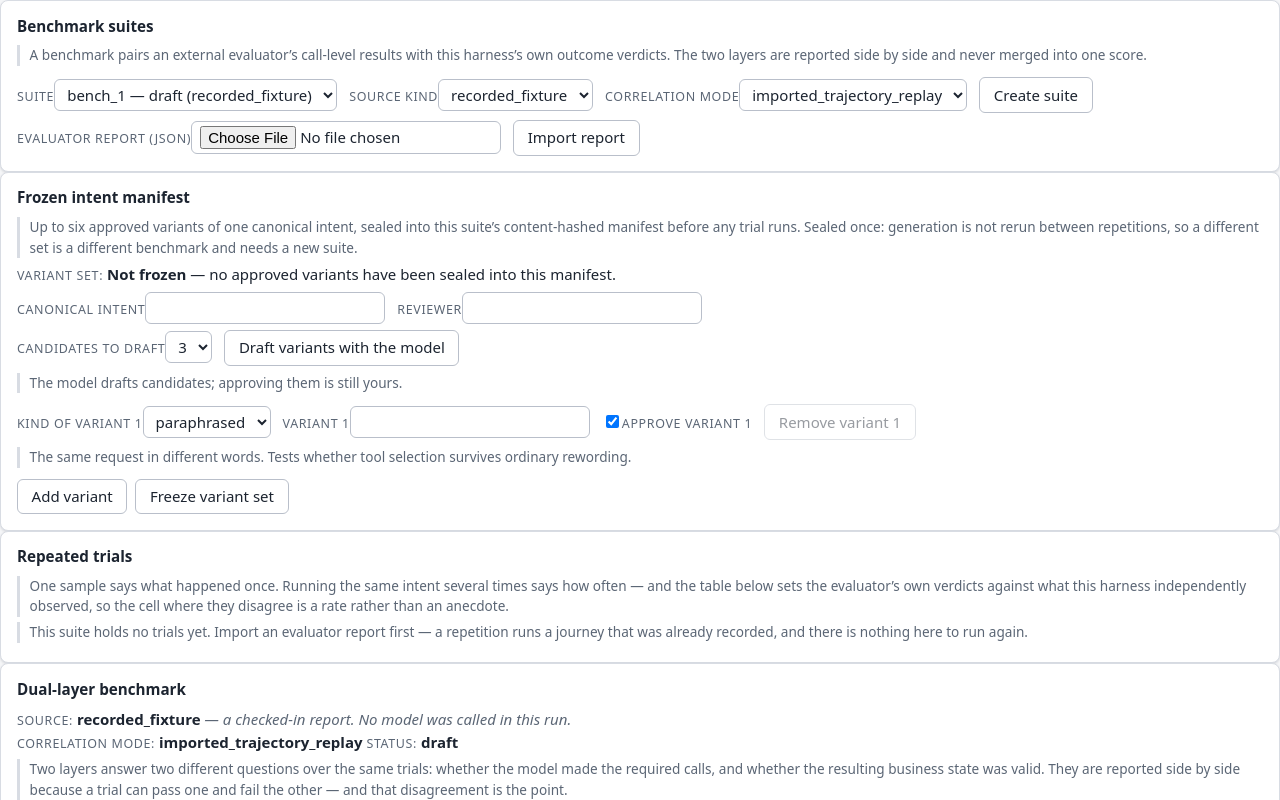
Scenario: BenchmarkSection — the frozen intent manifest › stops offering rows at FR-100's ceiling of six
Click the button "Add variant": (72,497) [17, 479, 127, 514]
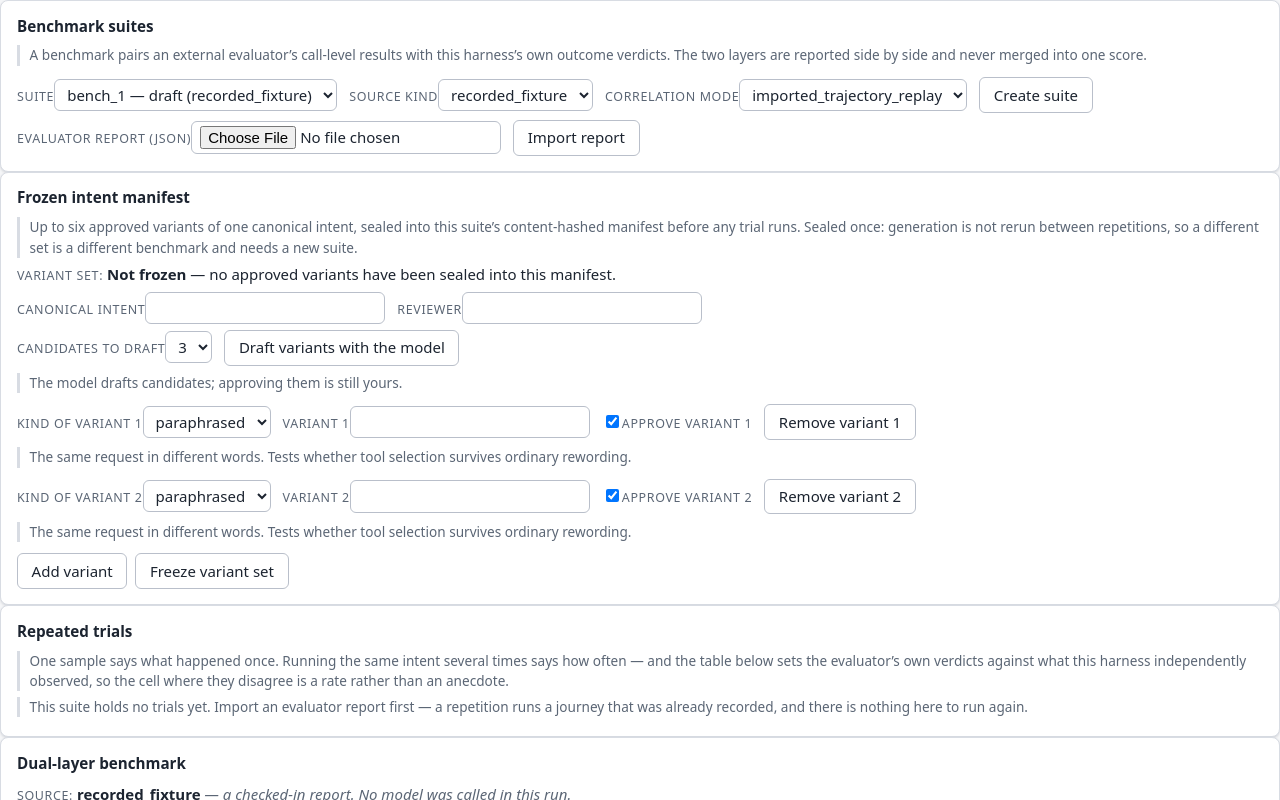
Click the button "Add variant": (72,571) [17, 553, 127, 589]
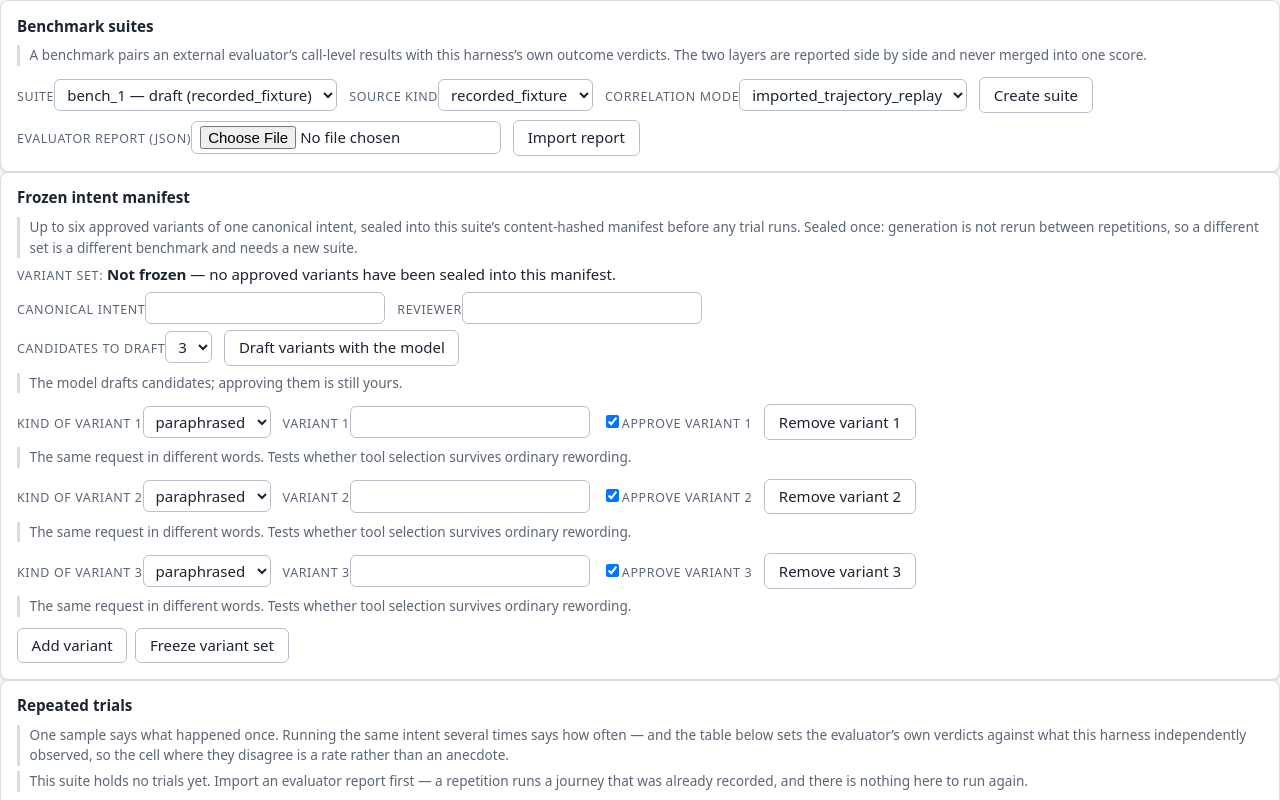
Click the button "Add variant": (72,646) [17, 628, 127, 663]
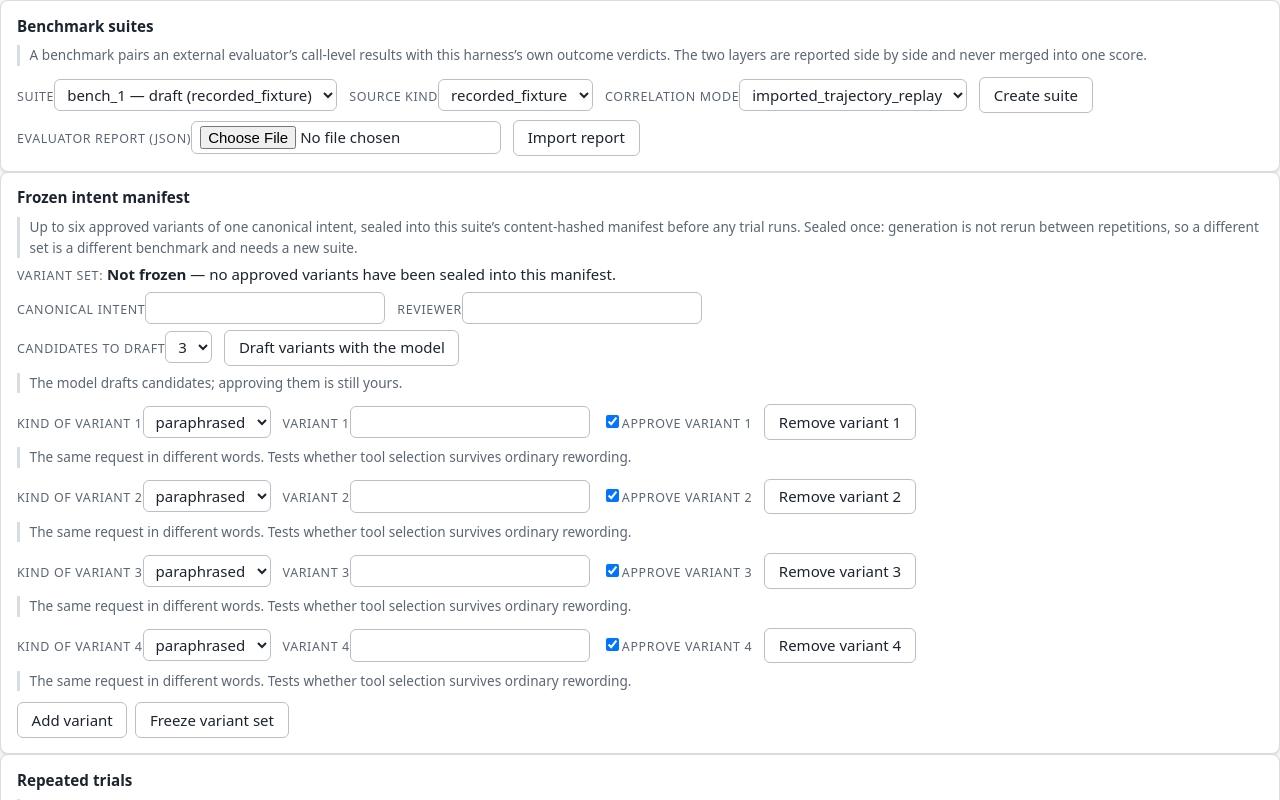
Click the button "Add variant": (72,720) [17, 702, 127, 738]
(page scrolled)
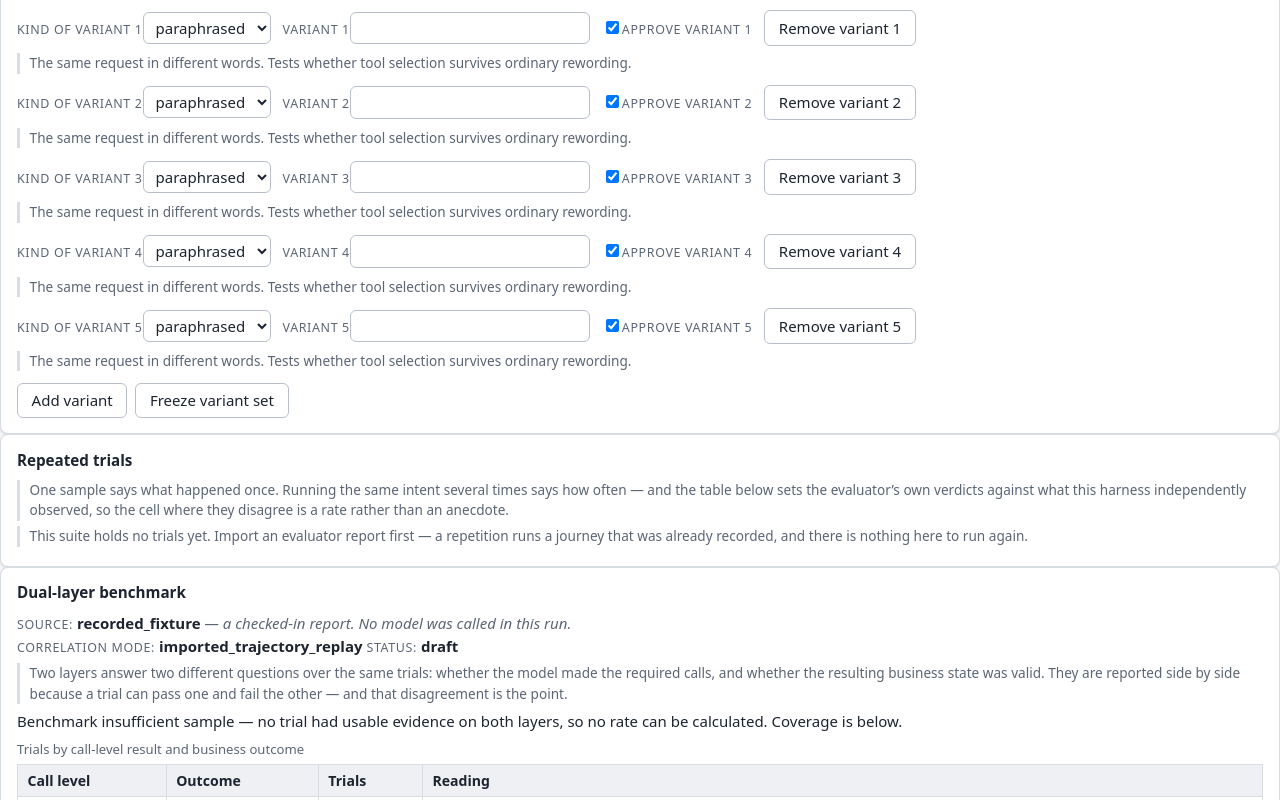
Click the button "Add variant": (72,400) [17, 383, 127, 418]
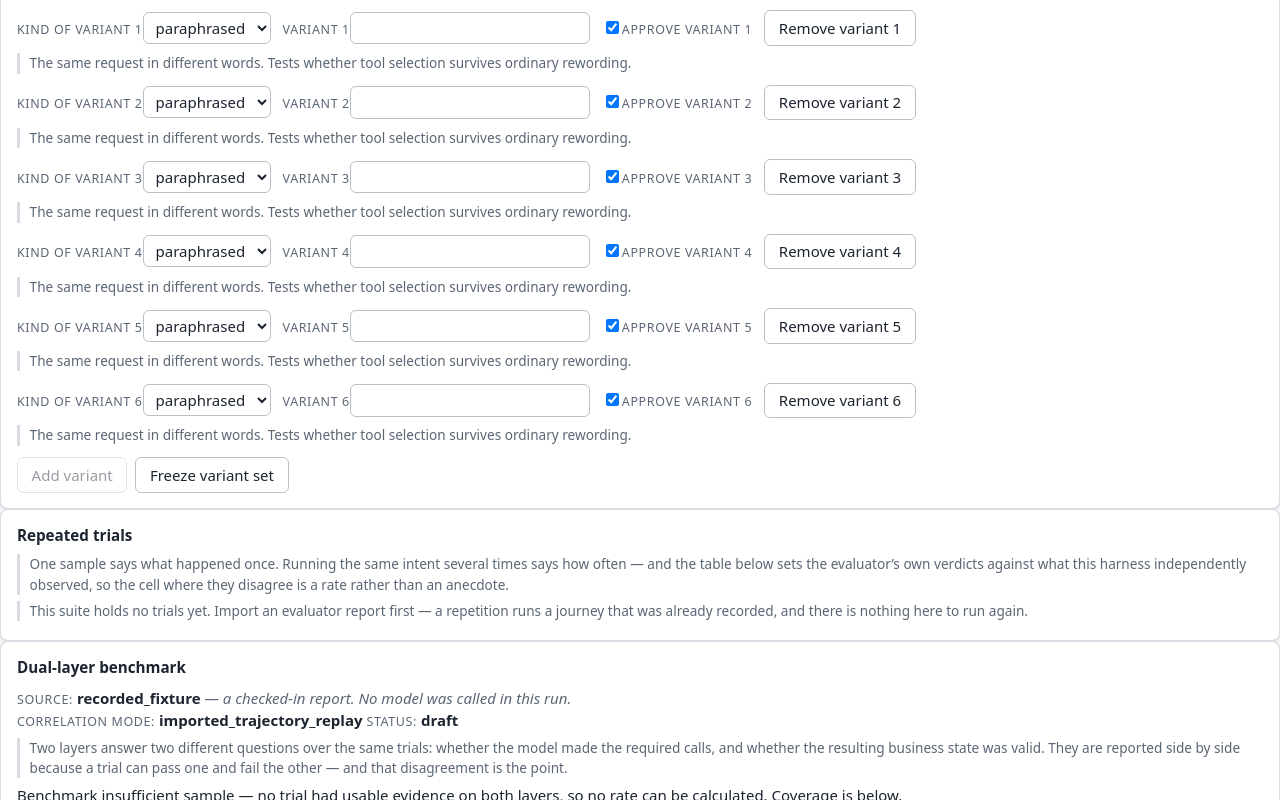
Now the field labelled "Variant 6" is shown, box [350, 384, 590, 417]
Now the button "Add variant" is disabled, box [17, 457, 127, 493]
